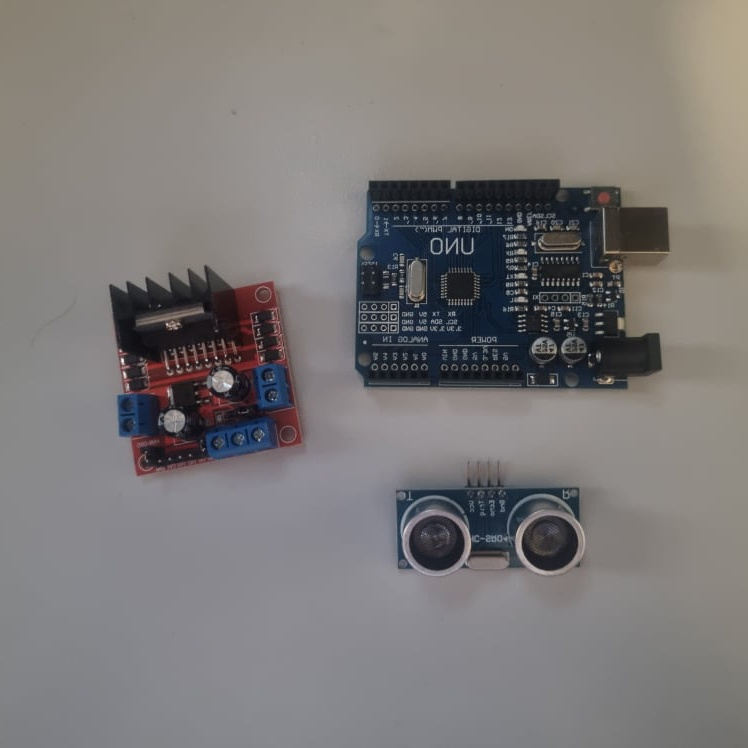MOTOR: (101, 268, 305, 478)
SENSOR: (392, 457, 583, 584)
UNO R3: (352, 176, 669, 393)
